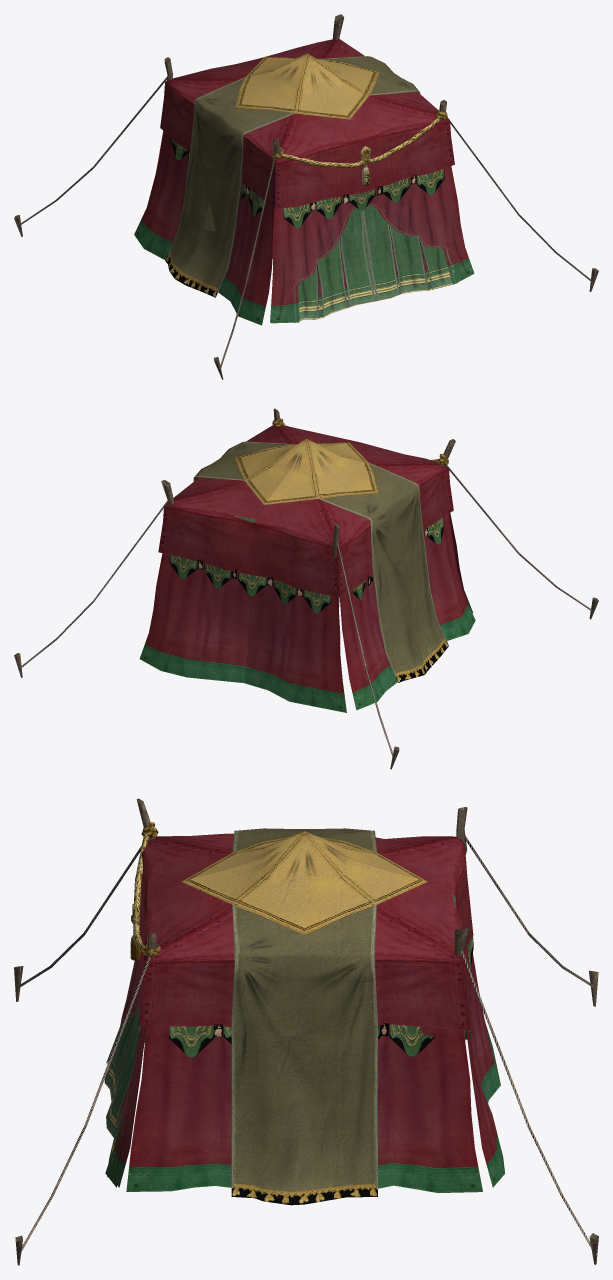
The model's file is Tent02.FBX.
3 renders of one model, top to bottom at view 1: azimuth 30°, elevation 25°; view 2: azimuth 150°, elevation 25°; view 3: azimuth 270°, elevation 25°, orthographic. The views are drawn at different scales.
Visible parts, largest first — view 1: LV_Spechia_LemiForest_DaidangsSmallTent01_SM_SVR; view 2: LV_Spechia_LemiForest_DaidangsSmallTent01_SM_SVR; view 3: LV_Spechia_LemiForest_DaidangsSmallTent01_SM_SVR.
Part boxes in pixels (x1,y1,x2,y2): LV_Spechia_LemiForest_DaidangsSmallTent01_SM_SVR: (14, 14, 598, 379); LV_Spechia_LemiForest_DaidangsSmallTent01_SM_SVR: (14, 408, 598, 769); LV_Spechia_LemiForest_DaidangsSmallTent01_SM_SVR: (14, 798, 598, 1265).
Bounding box in the file's own units: 148 × 79.44 × 135.
